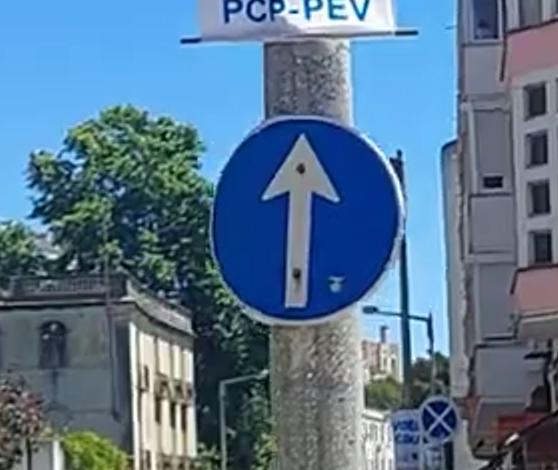Sentido obrigatorio: (207, 114, 410, 331)
